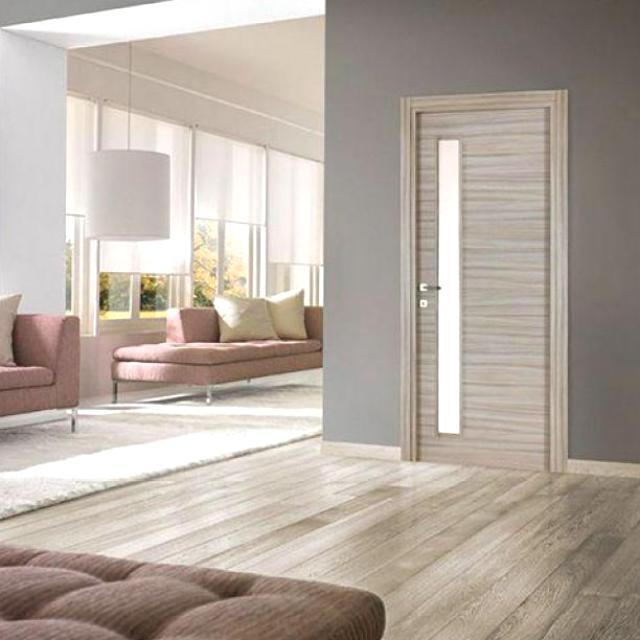door: (403, 88, 564, 472)
